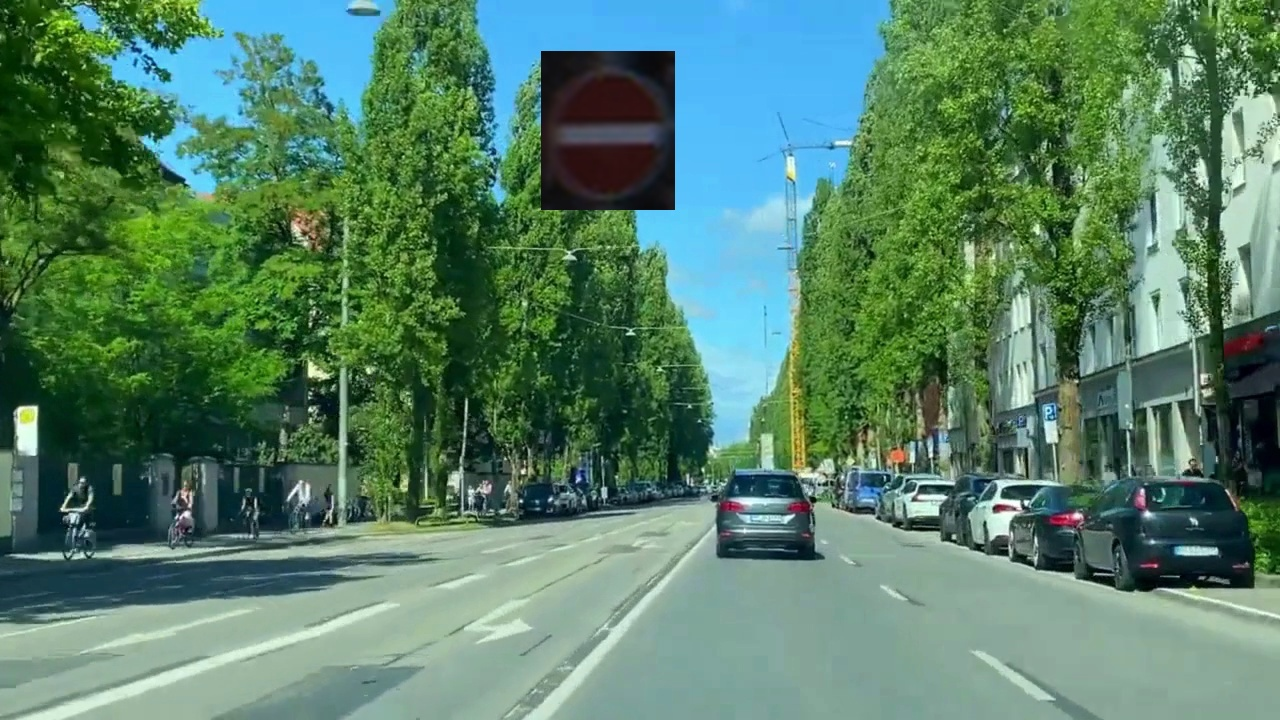No entry: (541, 51, 675, 210)
